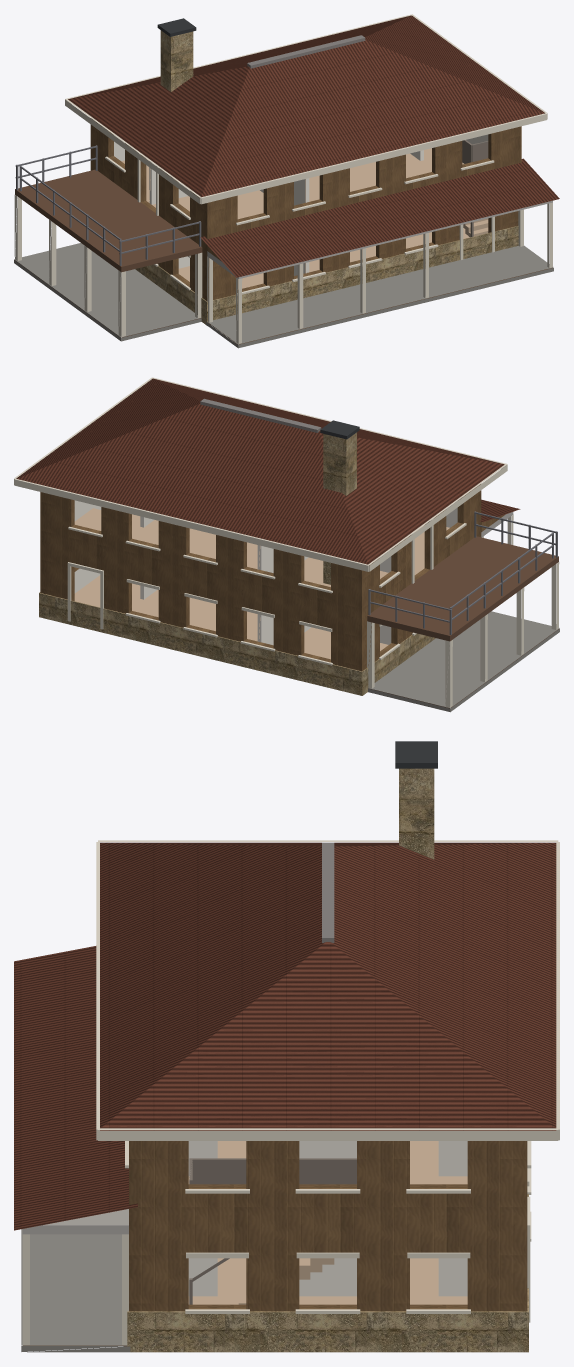
File: cr-ranch-two.towns-v2.lod0.glb
3 renders of one model, top to bottom at view 1: azimuth 30°, elevation 25°; view 2: azimuth 150°, elevation 25°; view 3: azimuth 270°, elevation 25°, orthographic. The views are drawn at different scales.
Parts seen in each view (by area): view 1: cr-ranch-two; view 2: cr-ranch-two; view 3: cr-ranch-two.
Part boxes in pixels (<box>): cr-ranch-two: <box>14,14,559,348</box>; cr-ranch-two: <box>14,377,559,712</box>; cr-ranch-two: <box>14,741,559,1352</box>.
Size of the model in its own units: 18.37 by 9.57 by 12.34.
Materials: 6 (3 with a texture image).
